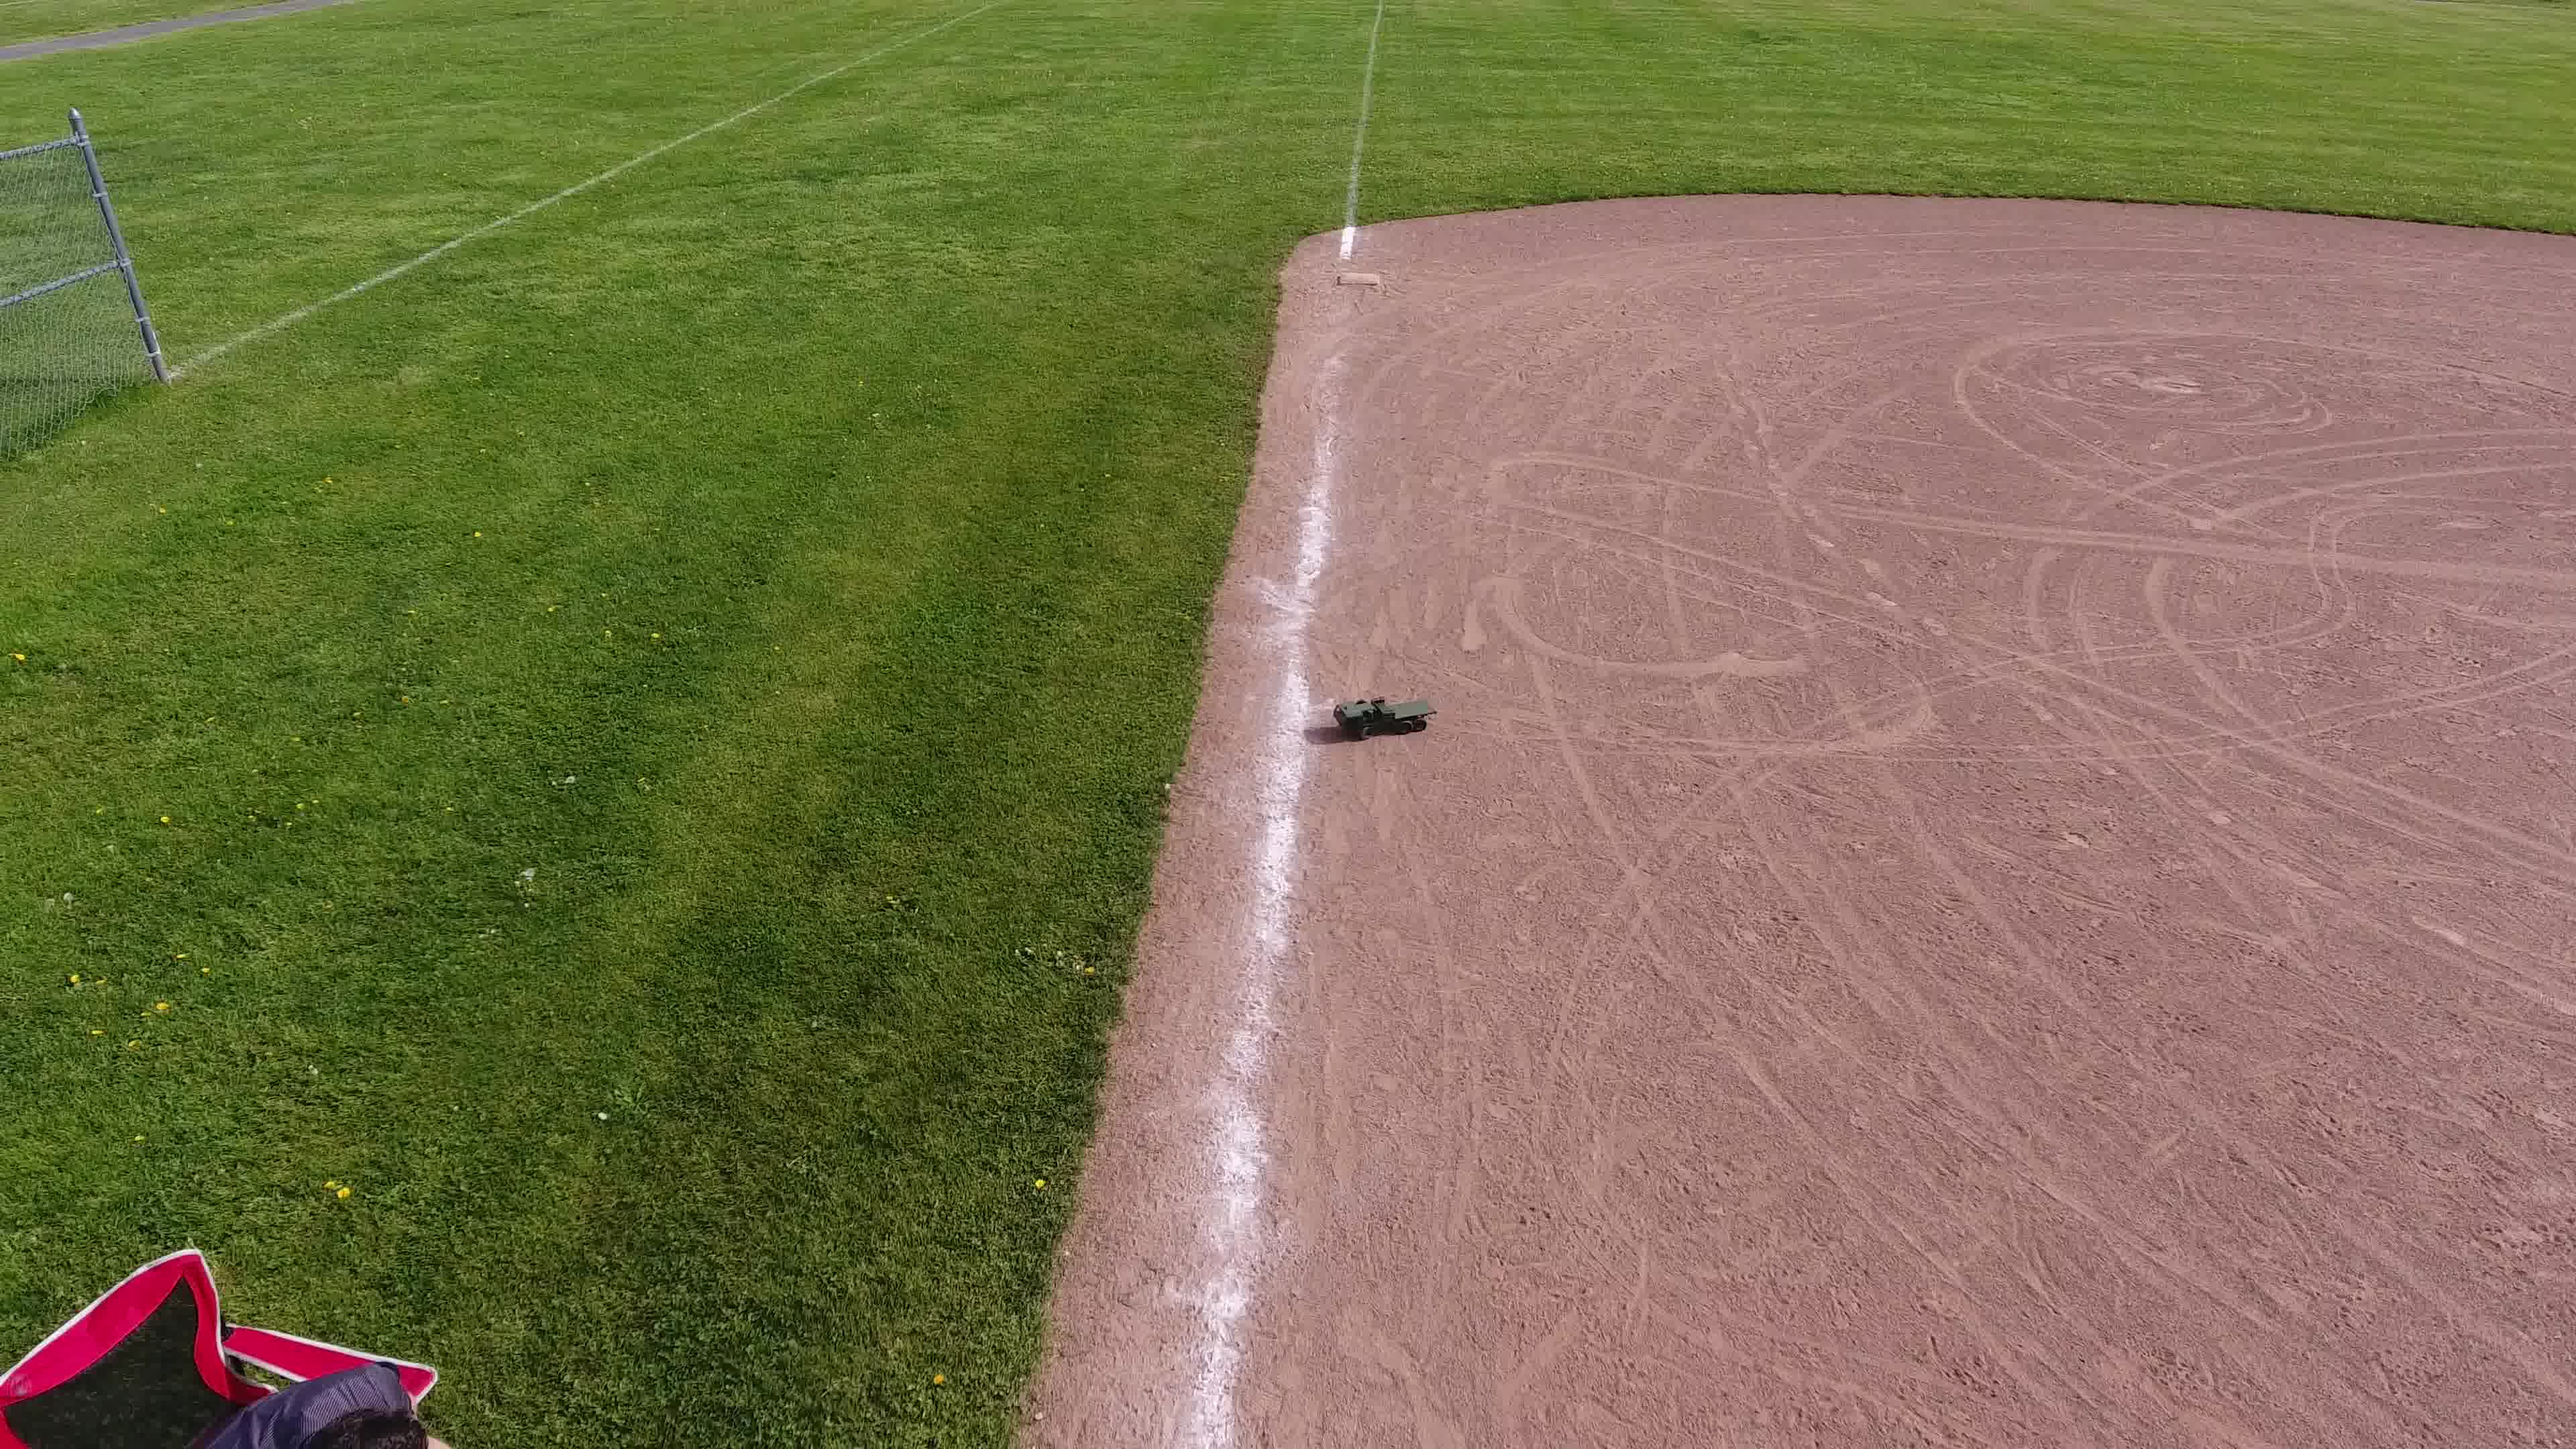transporter9: (1332, 692, 1440, 741)
